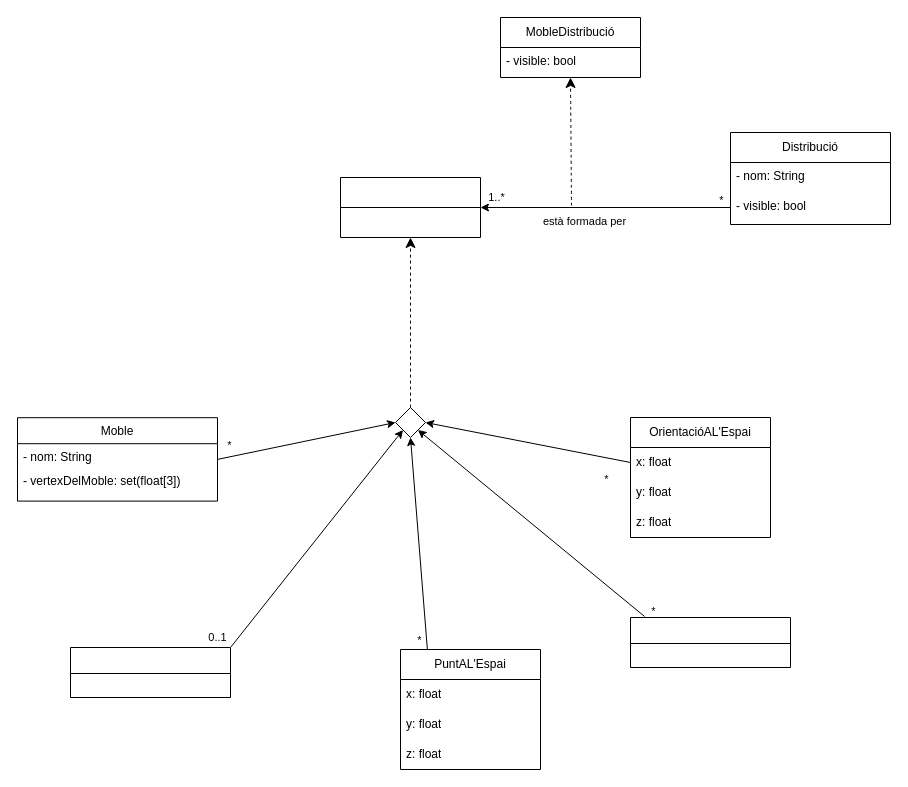
This 908x787 diagram has some shape labels left out. The centre of each missing label's shape, as x and y in pixels:
"Habitacio" belongs at (x=150, y=672).
"MobleCol·locat" belongs at (x=410, y=207).
"Visita" belongs at (x=710, y=642).
